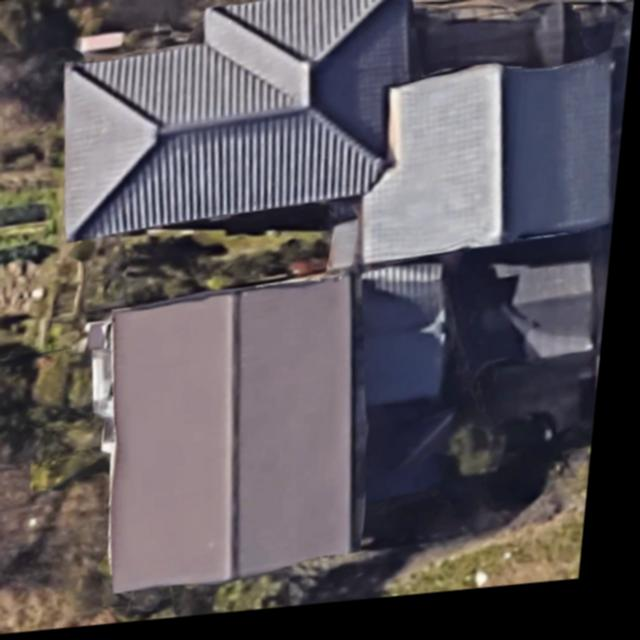Batiment: (66, 0, 393, 242), (119, 282, 364, 594), (368, 65, 616, 270)
